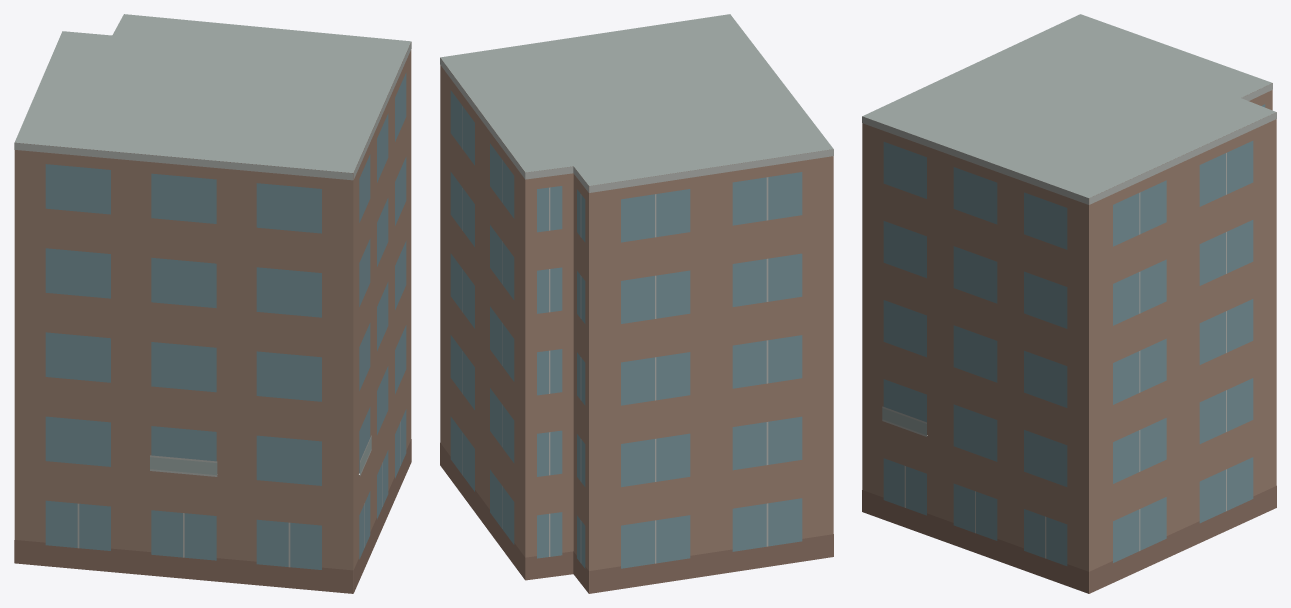
File: survey-upis-32539206.glb
3 renders of one model, left to right at view 1: azimuth 30°, elevation 25°; view 2: azimuth 150°, elevation 25°; view 3: azimuth 270°, elevation 25°, orthographic. The views are drawn at different scales.
Parts seen in each view (by area): view 1: survey-upis-32539206.tmp; view 2: survey-upis-32539206.tmp; view 3: survey-upis-32539206.tmp.
Part boxes in pixels (left/top/right/bottom): survey-upis-32539206.tmp: left=14, top=14, right=411, bottom=593; survey-upis-32539206.tmp: left=440, top=14, right=833, bottom=593; survey-upis-32539206.tmp: left=862, top=14, right=1276, bottom=593.
Size of the model in its own units: 14.19 by 14.2 by 13.49.
